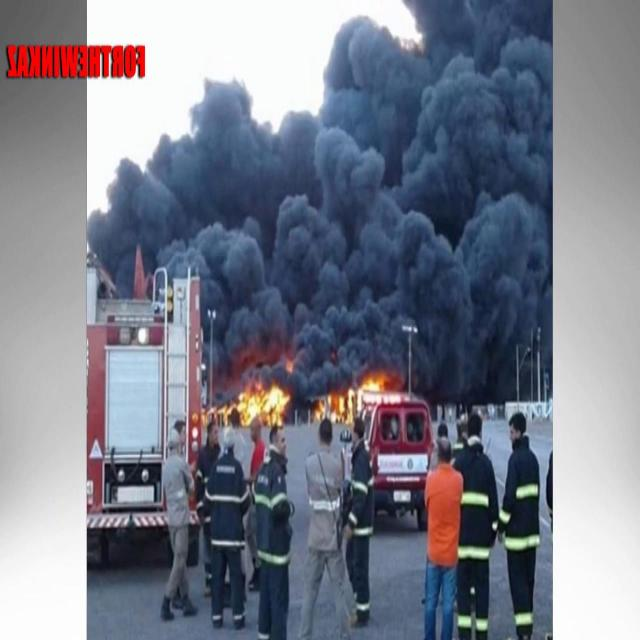fire: (219, 371, 404, 426)
